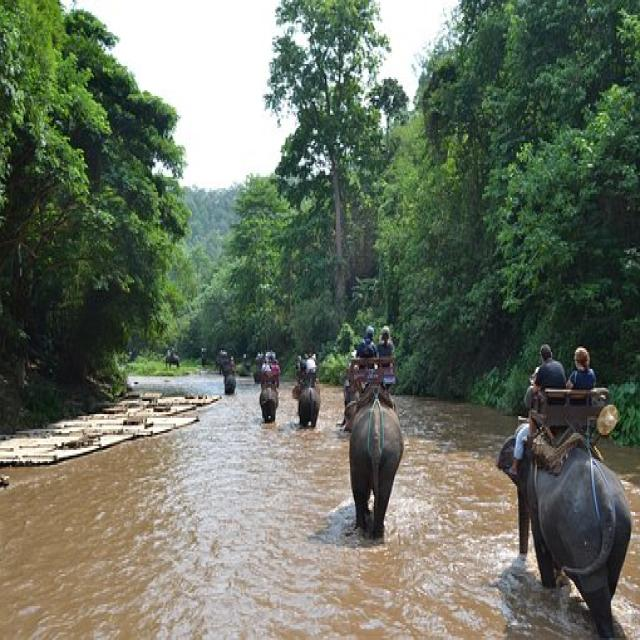Elephant: (499, 410, 638, 640), (341, 383, 406, 549), (293, 384, 326, 435), (257, 383, 282, 433), (222, 370, 241, 408)
